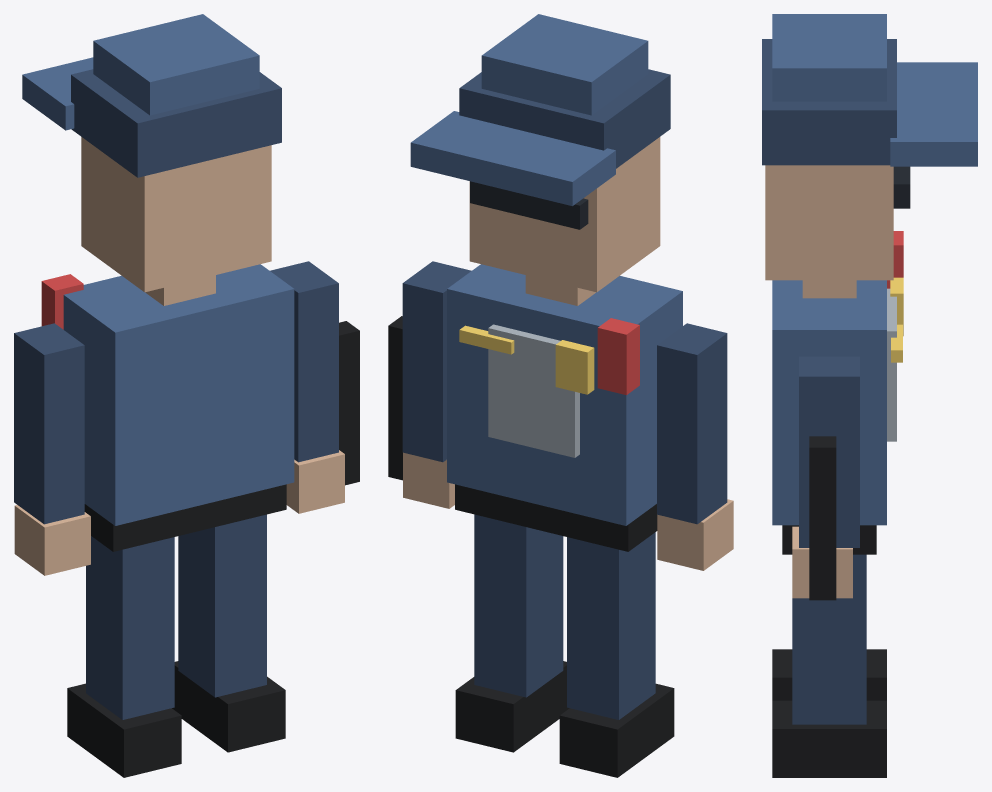
File: npc_ps1_cop.glb
3 renders of one model, left to right at view 1: azimuth 30°, elevation 25°; view 2: azimuth 150°, elevation 25°; view 3: azimuth 270°, elevation 25°, orthographic.
Visible parts, largest first — view 1: npc_ps1_cop_root; view 2: npc_ps1_cop_root; view 3: npc_ps1_cop_root.
Boxes of the visible parts, x1=… form: npc_ps1_cop_root: x1=14, y1=14, x2=359, y2=777; npc_ps1_cop_root: x1=388, y1=14, x2=733, y2=777; npc_ps1_cop_root: x1=762, y1=14, x2=977, y2=777.
Bounding box in the file's own units: 1.12 × 2.28 × 0.64.
